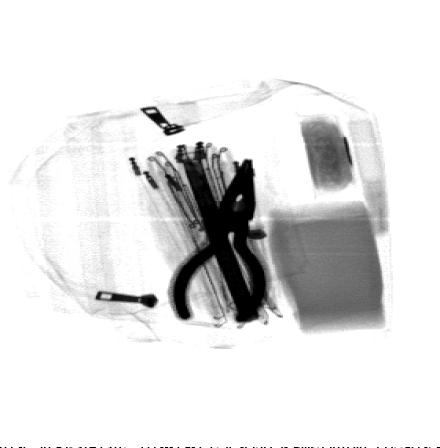Pliers: (170, 158, 272, 324)
